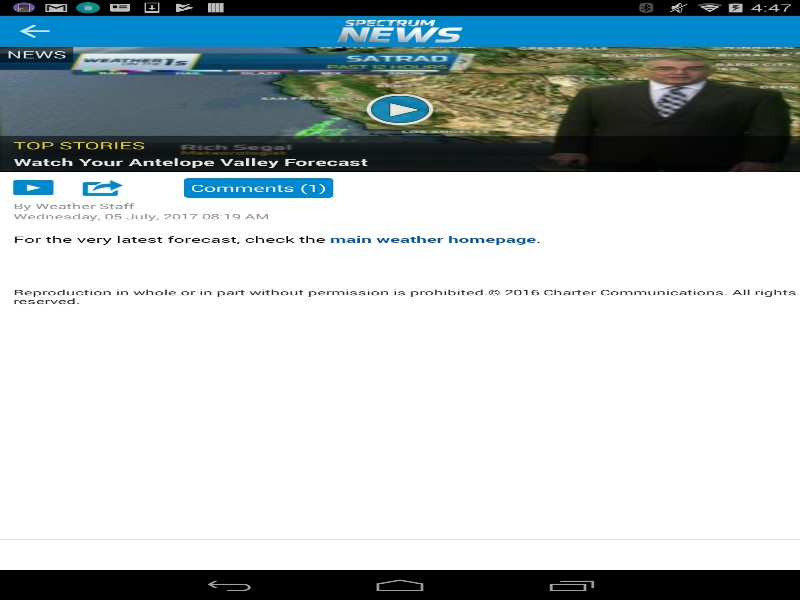Button: (0, 16, 56, 45), (742, 18, 793, 42)
Input: (6, 18, 793, 43)
